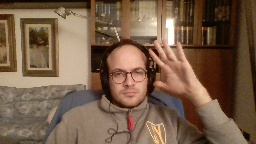Mano_aperta: (145, 36, 195, 97)
